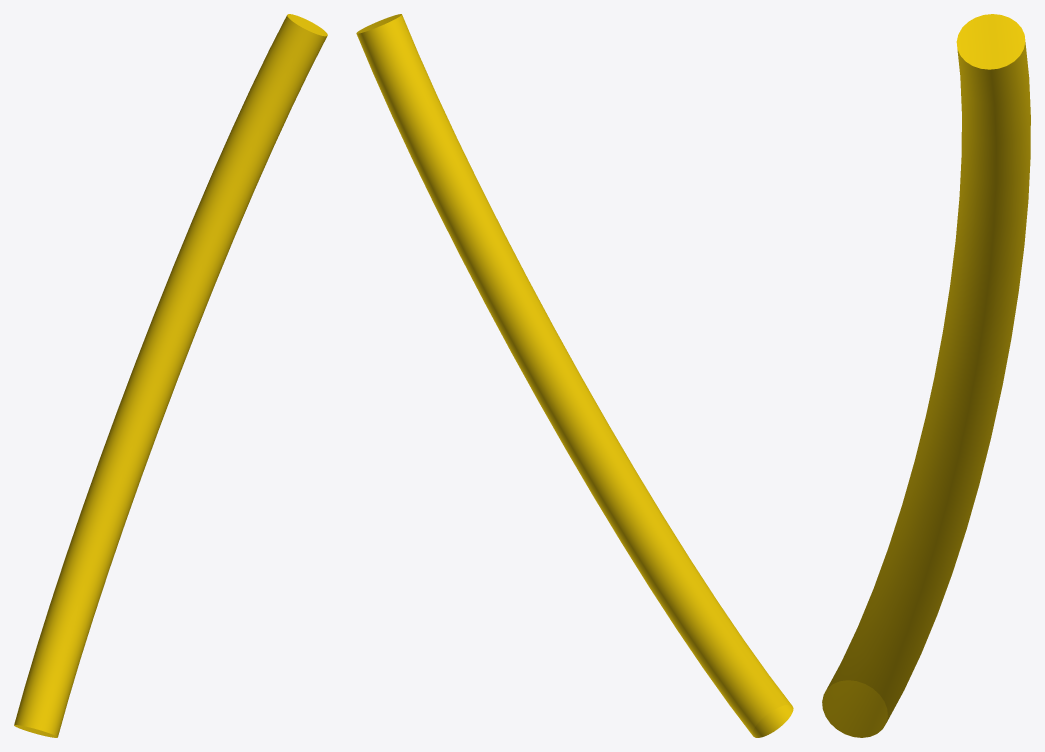
Rendered from Event_421115418_track_17.fbx.
The picture shows the model from 3 angles, left to right: view 1: azimuth 30°, elevation 25°; view 2: azimuth 150°, elevation 25°; view 3: azimuth 270°, elevation 25°; orthographic projection. The views are drawn at different scales.
Parts seen in each view (by area): view 1: Model; view 2: Model; view 3: Model.
Part boxes in pixels (box(x1,y1,x2,y2)): Model: box(14, 14, 327, 737); Model: box(356, 14, 793, 737); Model: box(822, 14, 1030, 737).
Size of the model in its own units: 0.355 by 0.5969 by 0.121.
